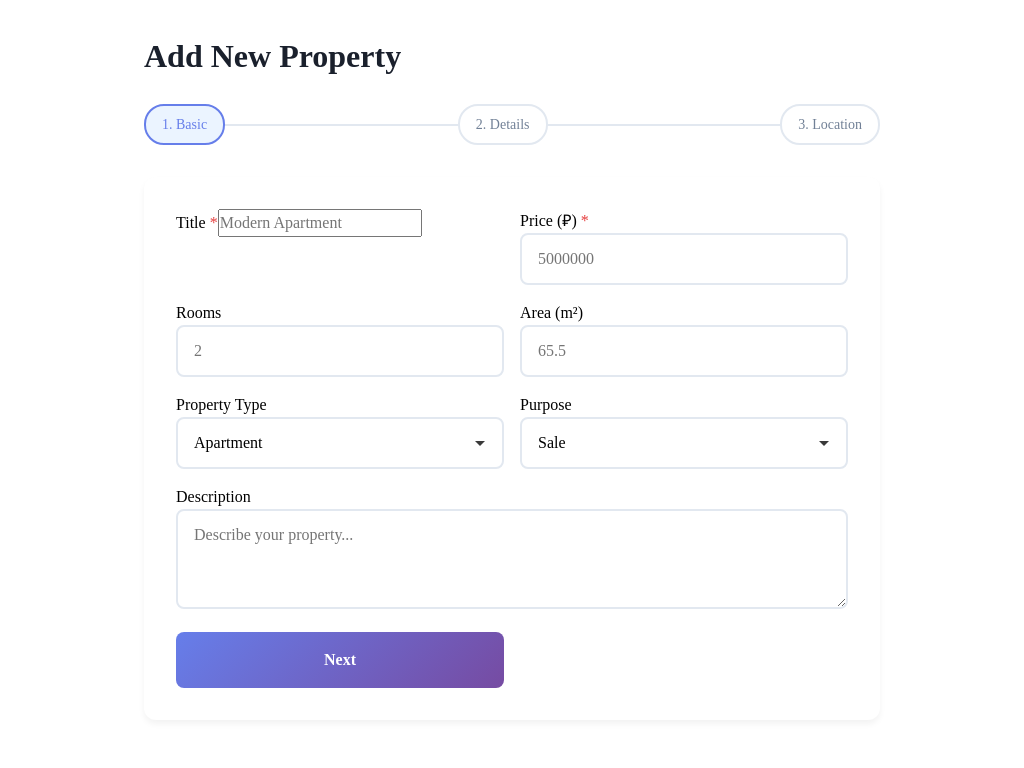
it: AddPropertyPage › navigates to step 2 on Next click
Click the button "Next" at [340, 660], box [176, 632, 504, 688]
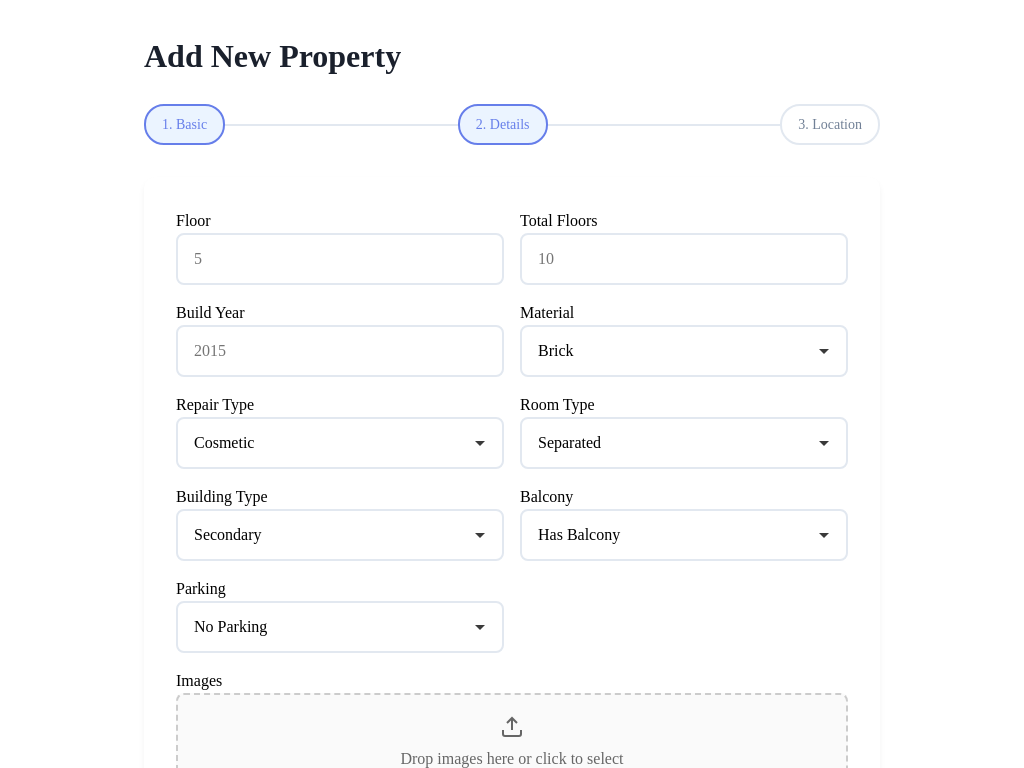
Check: the number field with placeholder "5" is shown, box [176, 233, 504, 285]
Check: the number field with placeholder "10" is shown, box [520, 233, 848, 285]
